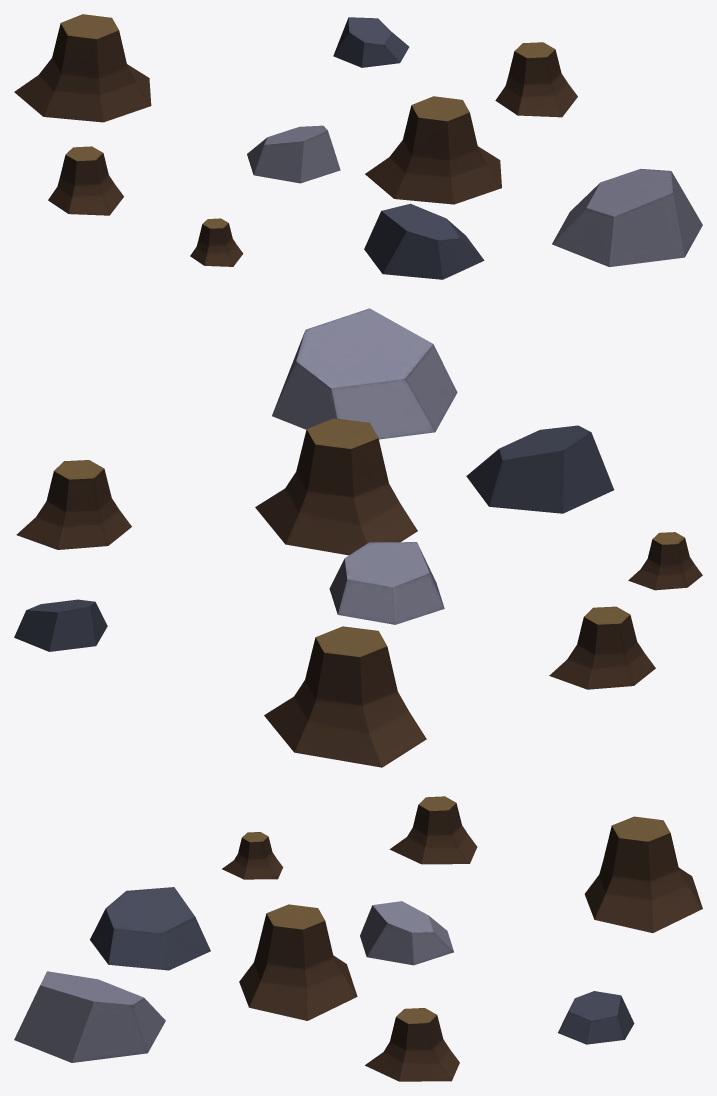
The model's file is tile_wood_6_ruin.fbx.
3 renders of one model, top to bottom at view 1: azimuth 30°, elevation 25°; view 2: azimuth 150°, elevation 25°; view 3: azimuth 270°, elevation 25°, orthographic. The views are drawn at different scales.
Parts seen in each view (by area): view 1: wood_6_ruin; view 2: wood_6_ruin; view 3: wood_6_ruin.
Boxes of the visible parts, box(x1,y1,x2,y2) form: wood_6_ruin: box(14, 14, 702, 279); wood_6_ruin: box(14, 308, 702, 767); wood_6_ruin: box(14, 796, 702, 1081).
Size of the model in its own units: 0.026 by 0.00353 by 0.0306.
